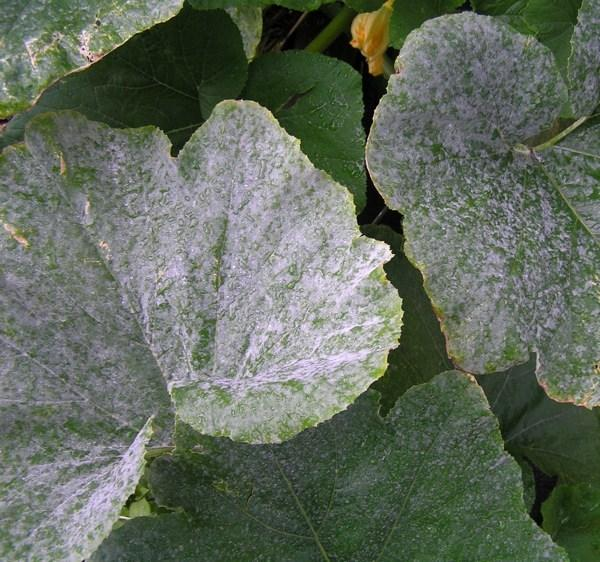Squash Powdery mildew leaf: (1, 84, 414, 528), (365, 5, 600, 412)
